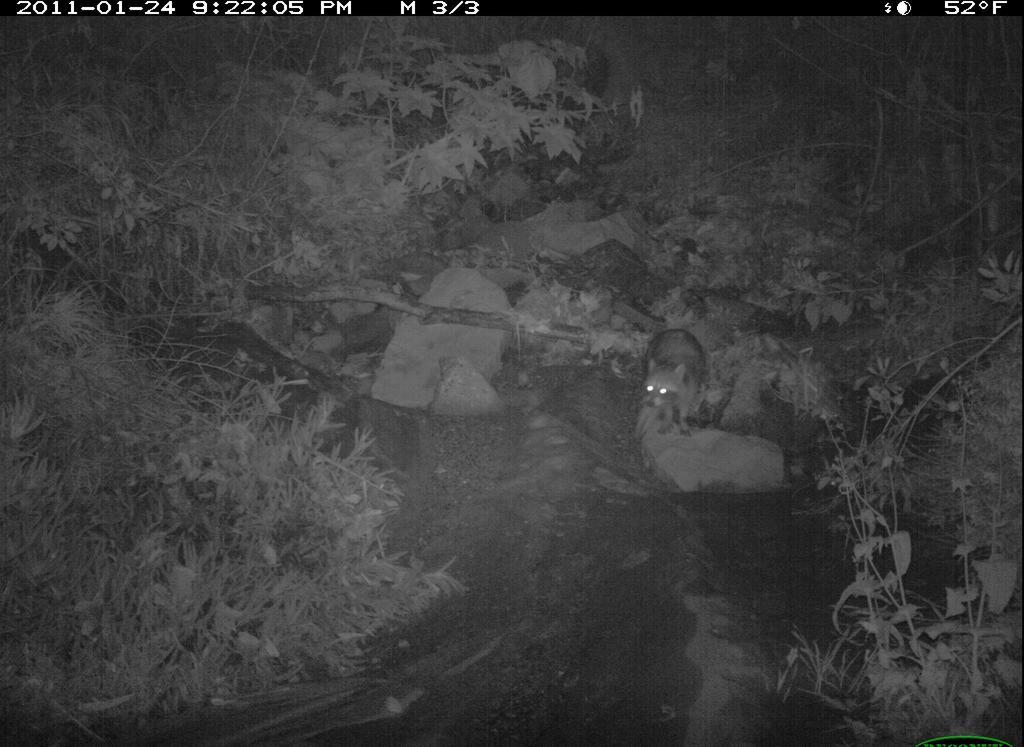raccoon: (617, 305, 731, 452)
